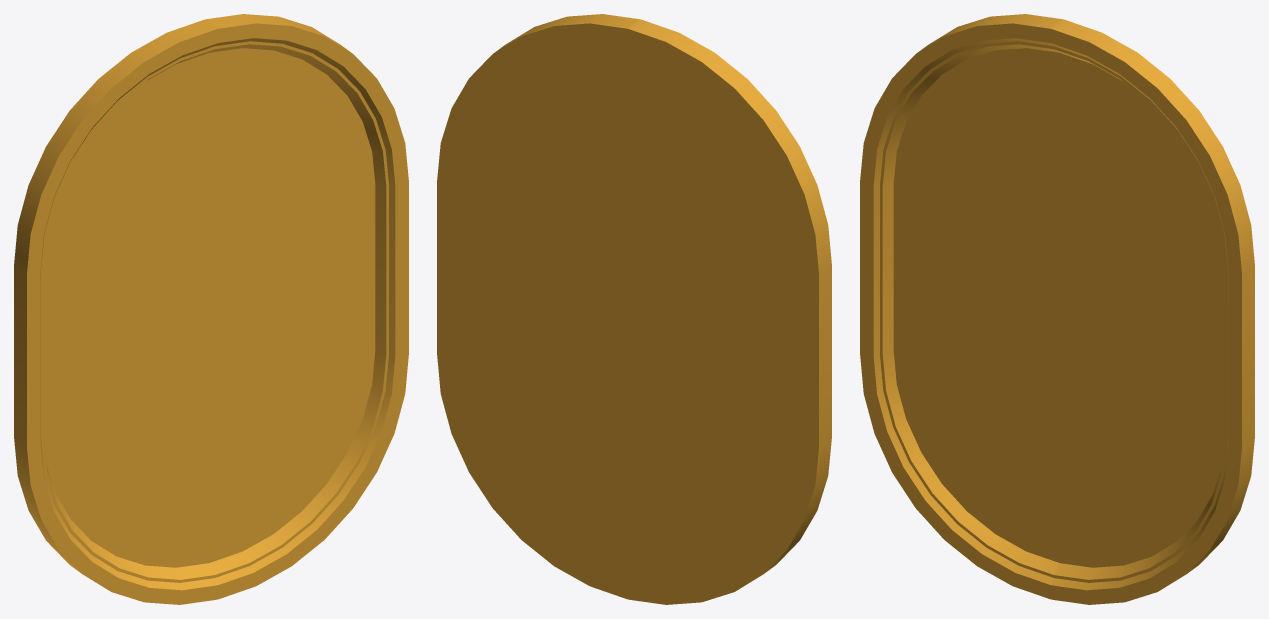
The model's file is cuadro2.fbx.
The picture shows the model from 3 angles, left to right: view 1: azimuth 30°, elevation 25°; view 2: azimuth 150°, elevation 25°; view 3: azimuth 330°, elevation 25°; orthographic projection.
Visible parts, largest first — view 1: Plane; view 2: Plane; view 3: Plane.
Boxes of the visible parts, left/top/right/bottom form: Plane: left=14, top=14, right=408, bottom=604; Plane: left=437, top=14, right=831, bottom=604; Plane: left=860, top=14, right=1254, bottom=604.
Size of the model in its own units: 2 by 2.85 by 0.1169.
